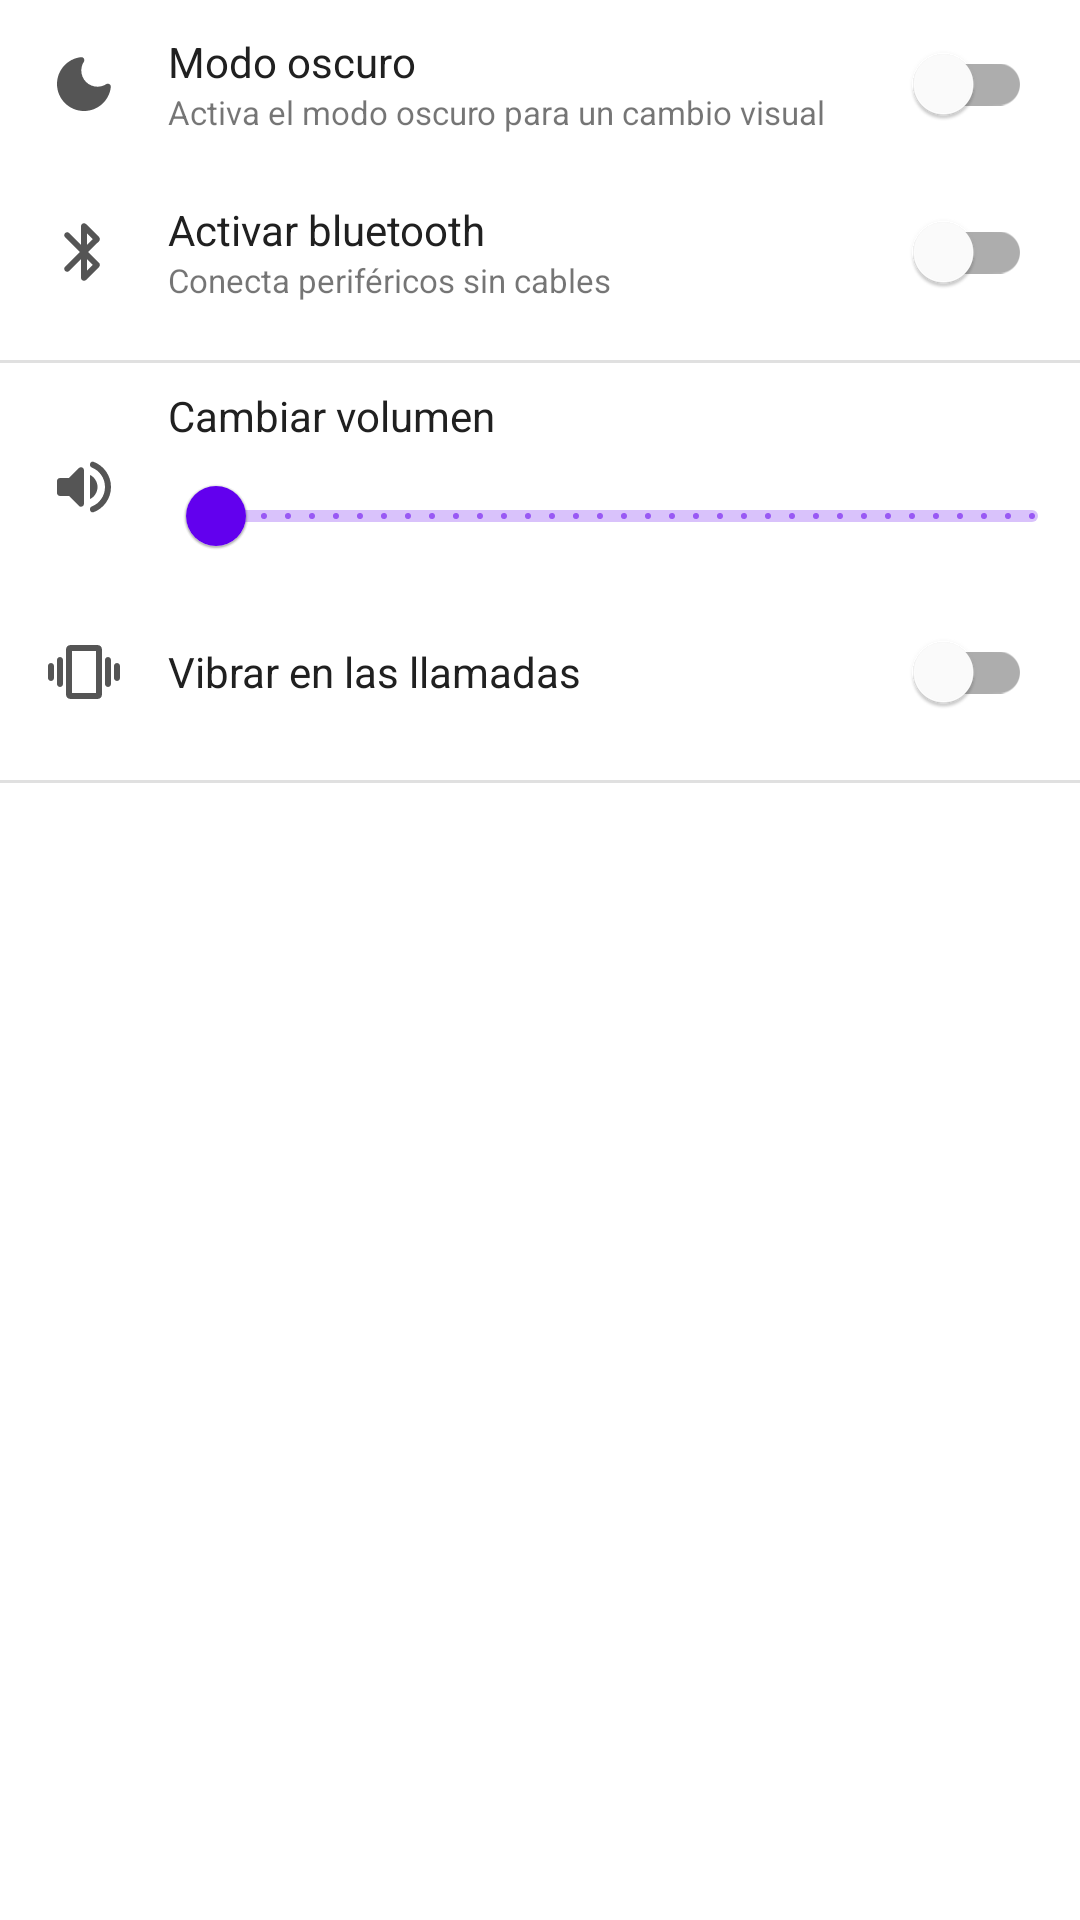

Icons on this 1080 x 1920 Android screen, each with its box as {"left": x1, "top": y1, "right": x2, "bottom": y2}:
mode: {"left": 57, "top": 57, "right": 111, "bottom": 111}
vibration: {"left": 48, "top": 645, "right": 120, "bottom": 699}
